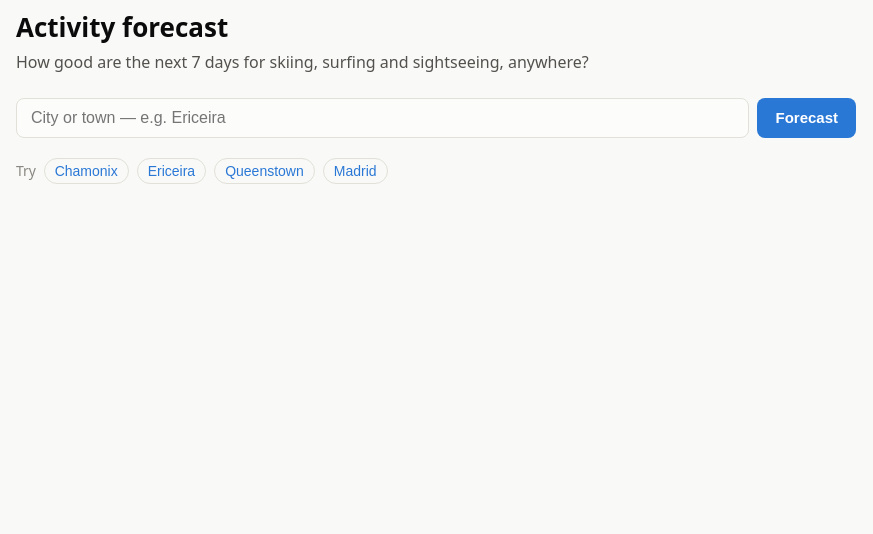
Test case: an example chip runs its own search
The width and height of the screenshot is (873, 534).
Click the button "Ericeira" at [171, 171], box [137,158,206,184]
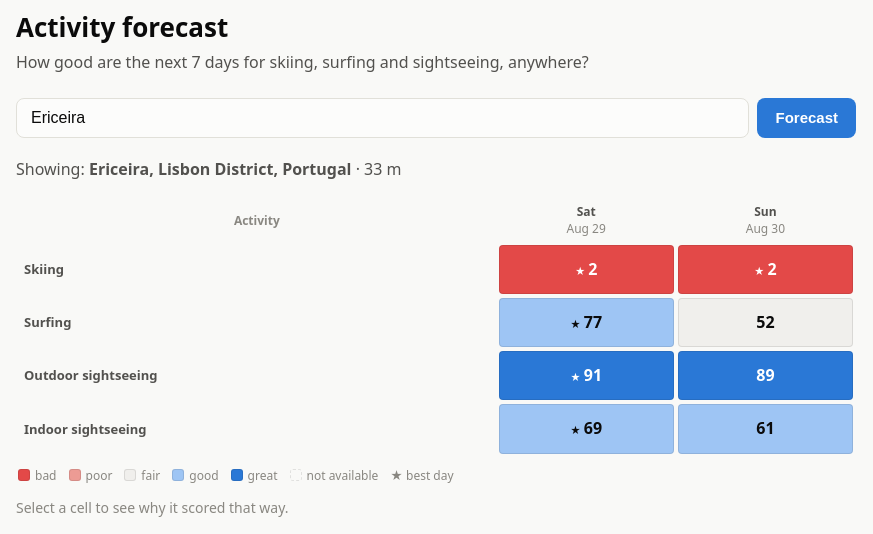
Expected: the text "Showing: Ericeira, Lisbon District, Portugal · 33 m" is shown, [16,158,402,180]
